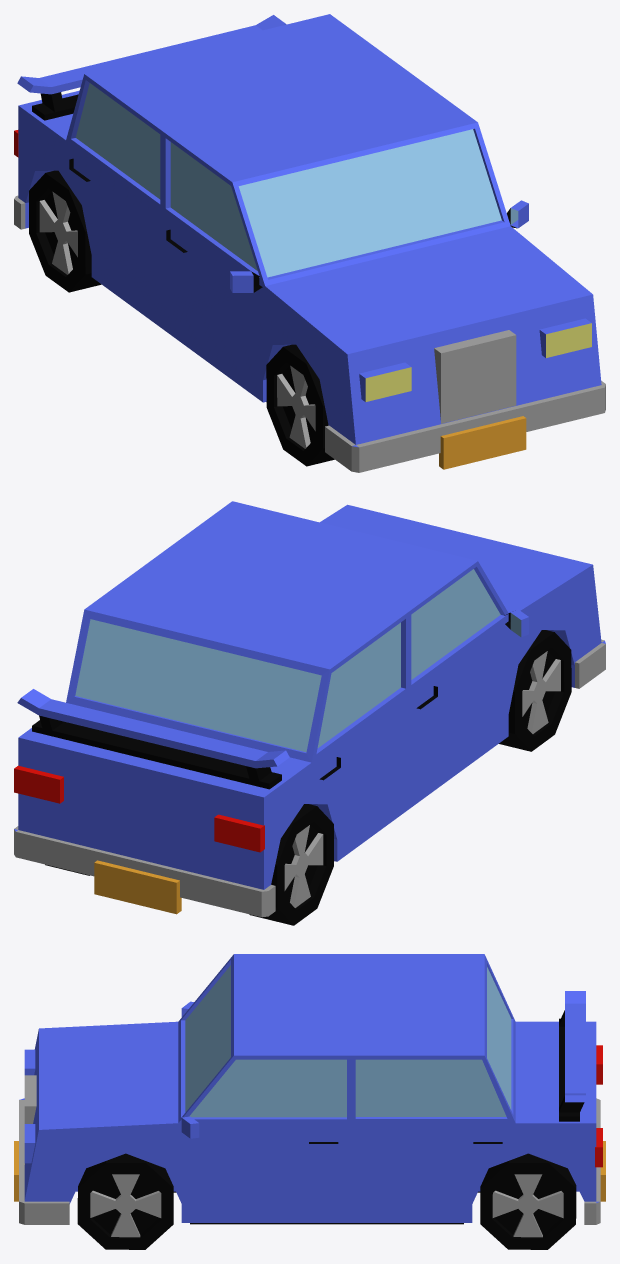
The model's file is car.glb.
3 views of the same model, one above another, from view 1: azimuth 30°, elevation 25°; view 2: azimuth 150°, elevation 25°; view 3: azimuth 270°, elevation 25° (orthographic). The views are drawn at different scales.
Parts seen in each view (by area): view 1: Car, Wheels; view 2: Car, Wheels; view 3: Car, Wheels.
Part boxes in pixels (box(x1,y1,x2,y2)): Car: box(14, 14, 605, 472); Wheels: box(29, 170, 334, 466); Car: box(14, 501, 605, 917); Wheels: box(45, 630, 571, 925); Car: box(14, 954, 605, 1224); Wheels: box(77, 1153, 576, 1249).
Size of the model in its own units: 2.2 by 1.62 by 4.48.
